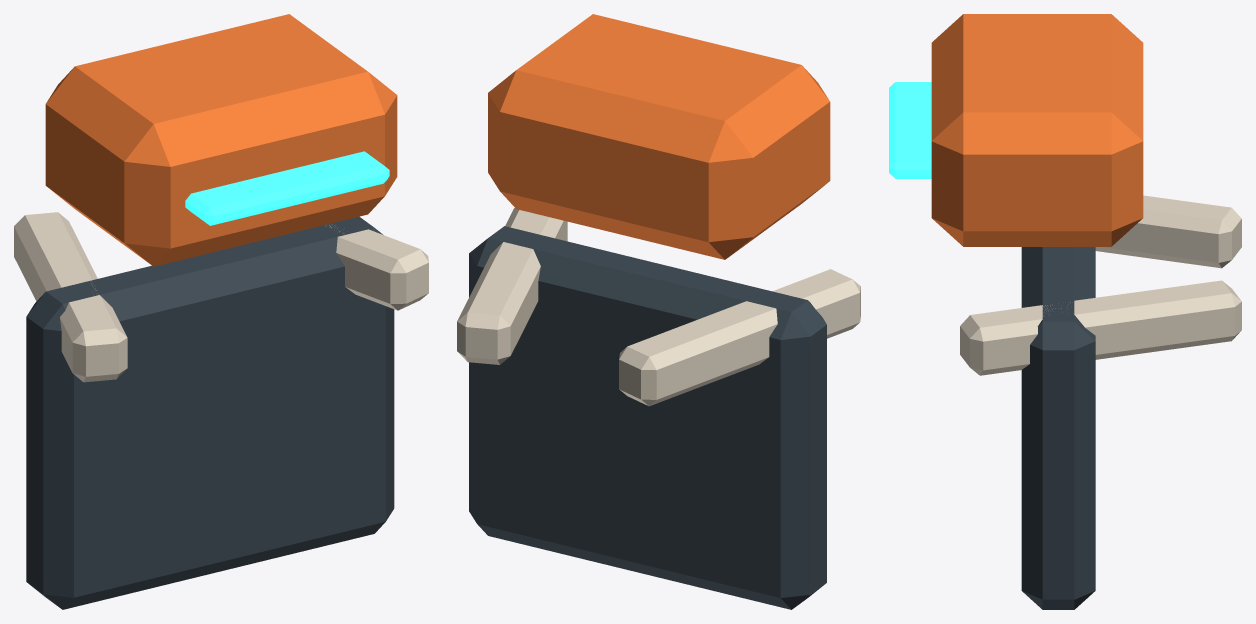
Rendered from LP_WorkLamp_0p5m.fbx.
3 views of the same model, side by side, from view 1: azimuth 30°, elevation 25°; view 2: azimuth 150°, elevation 25°; view 3: azimuth 270°, elevation 25° (orthographic). The views are drawn at different scales.
Visible parts, largest first — view 1: LampBase, LampHead, LampLeg, LampFace, LampLeg.001; view 2: LampBase, LampHead, LampLeg, LampLeg.001; view 3: LampHead, LampBase, LampLeg.001, LampLeg, LampFace.
Boxes of the visible parts, <box> form: LampBase: <box>26,216,394,609</box>; LampHead: <box>45,14,397,266</box>; LampLeg: <box>14,212,127,382</box>; LampFace: <box>185,151,389,225</box>; LampLeg.001: <box>325,225,428,310</box>; LampBase: <box>469,226,826,609</box>; LampHead: <box>488,14,830,259</box>; LampLeg: <box>619,269,860,406</box>; LampLeg.001: <box>457,208,567,364</box>; LampHead: <box>931,14,1143,246</box>; LampBase: <box>1021,247,1095,609</box>; LampLeg.001: <box>960,280,1241,375</box>; LampLeg: <box>1095,195,1241,268</box>; LampFace: <box>889,82,931,178</box>.
Size of the model in its own units: 36.48 by 49.5 by 33.3.
